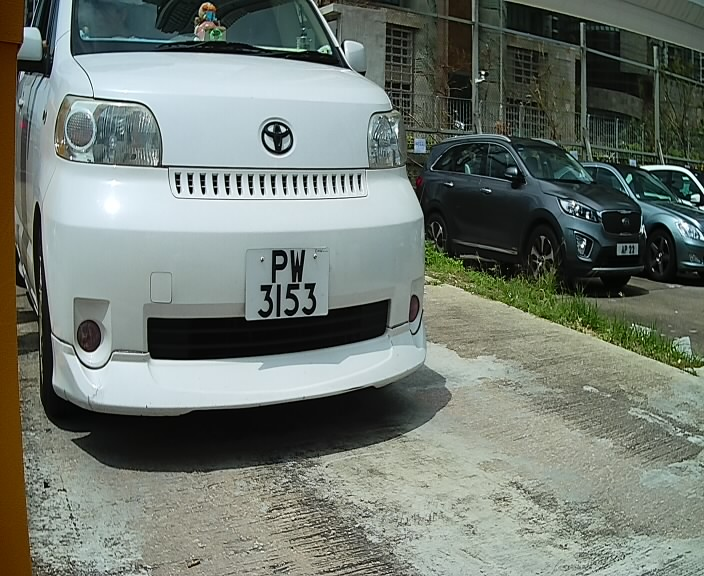Car: (7, 1, 485, 431)
License Plate: (237, 238, 345, 333)
